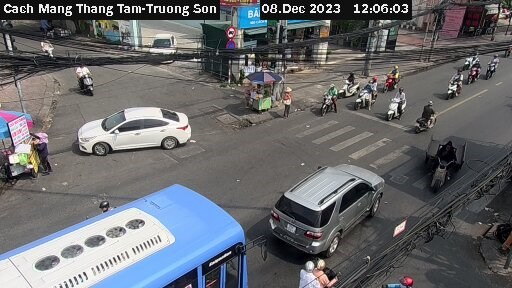bus: (3, 184, 251, 288)
car: (269, 163, 390, 261), (78, 103, 196, 158), (145, 32, 178, 62)
motorbike: (409, 100, 446, 140), (382, 92, 416, 133), (308, 84, 346, 115), (69, 65, 105, 95), (441, 70, 470, 105), (380, 64, 413, 94), (353, 85, 386, 115), (333, 72, 364, 96), (484, 50, 507, 82), (461, 63, 490, 88)
